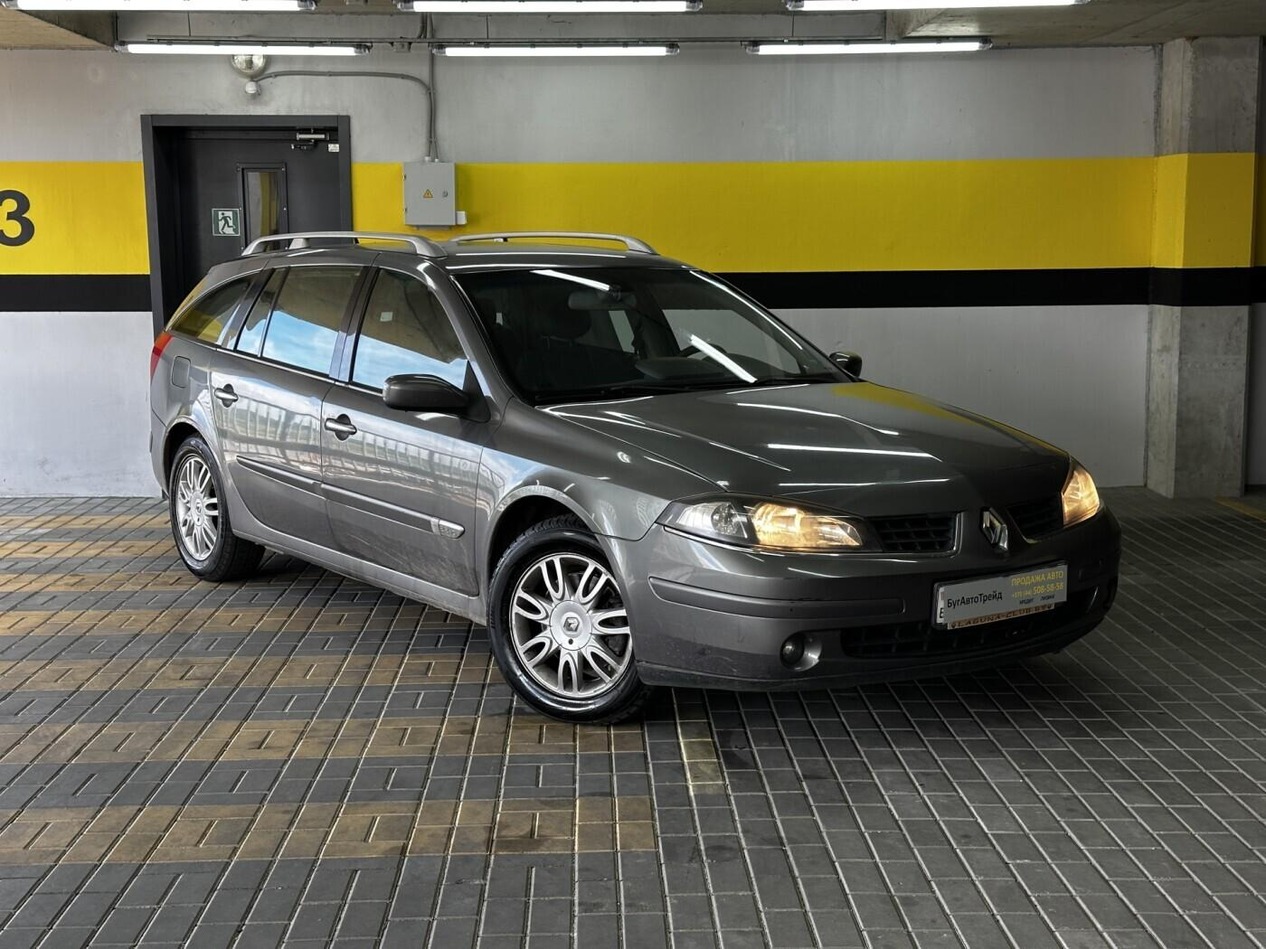Laguna_2005-2007: (143, 227, 1132, 742)
